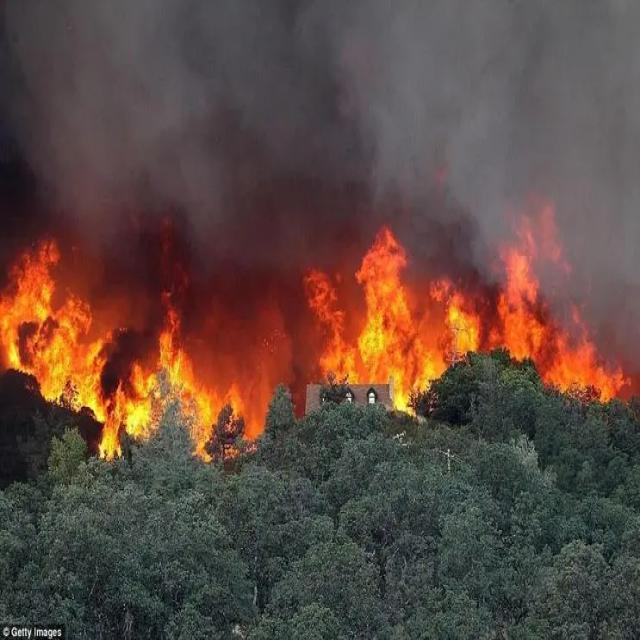Fire: (0, 241, 85, 403), (358, 227, 432, 379), (498, 244, 536, 364), (432, 273, 478, 352)
Smoke: (226, 3, 380, 213), (0, 0, 118, 215), (494, 5, 575, 164), (157, 125, 281, 223)
